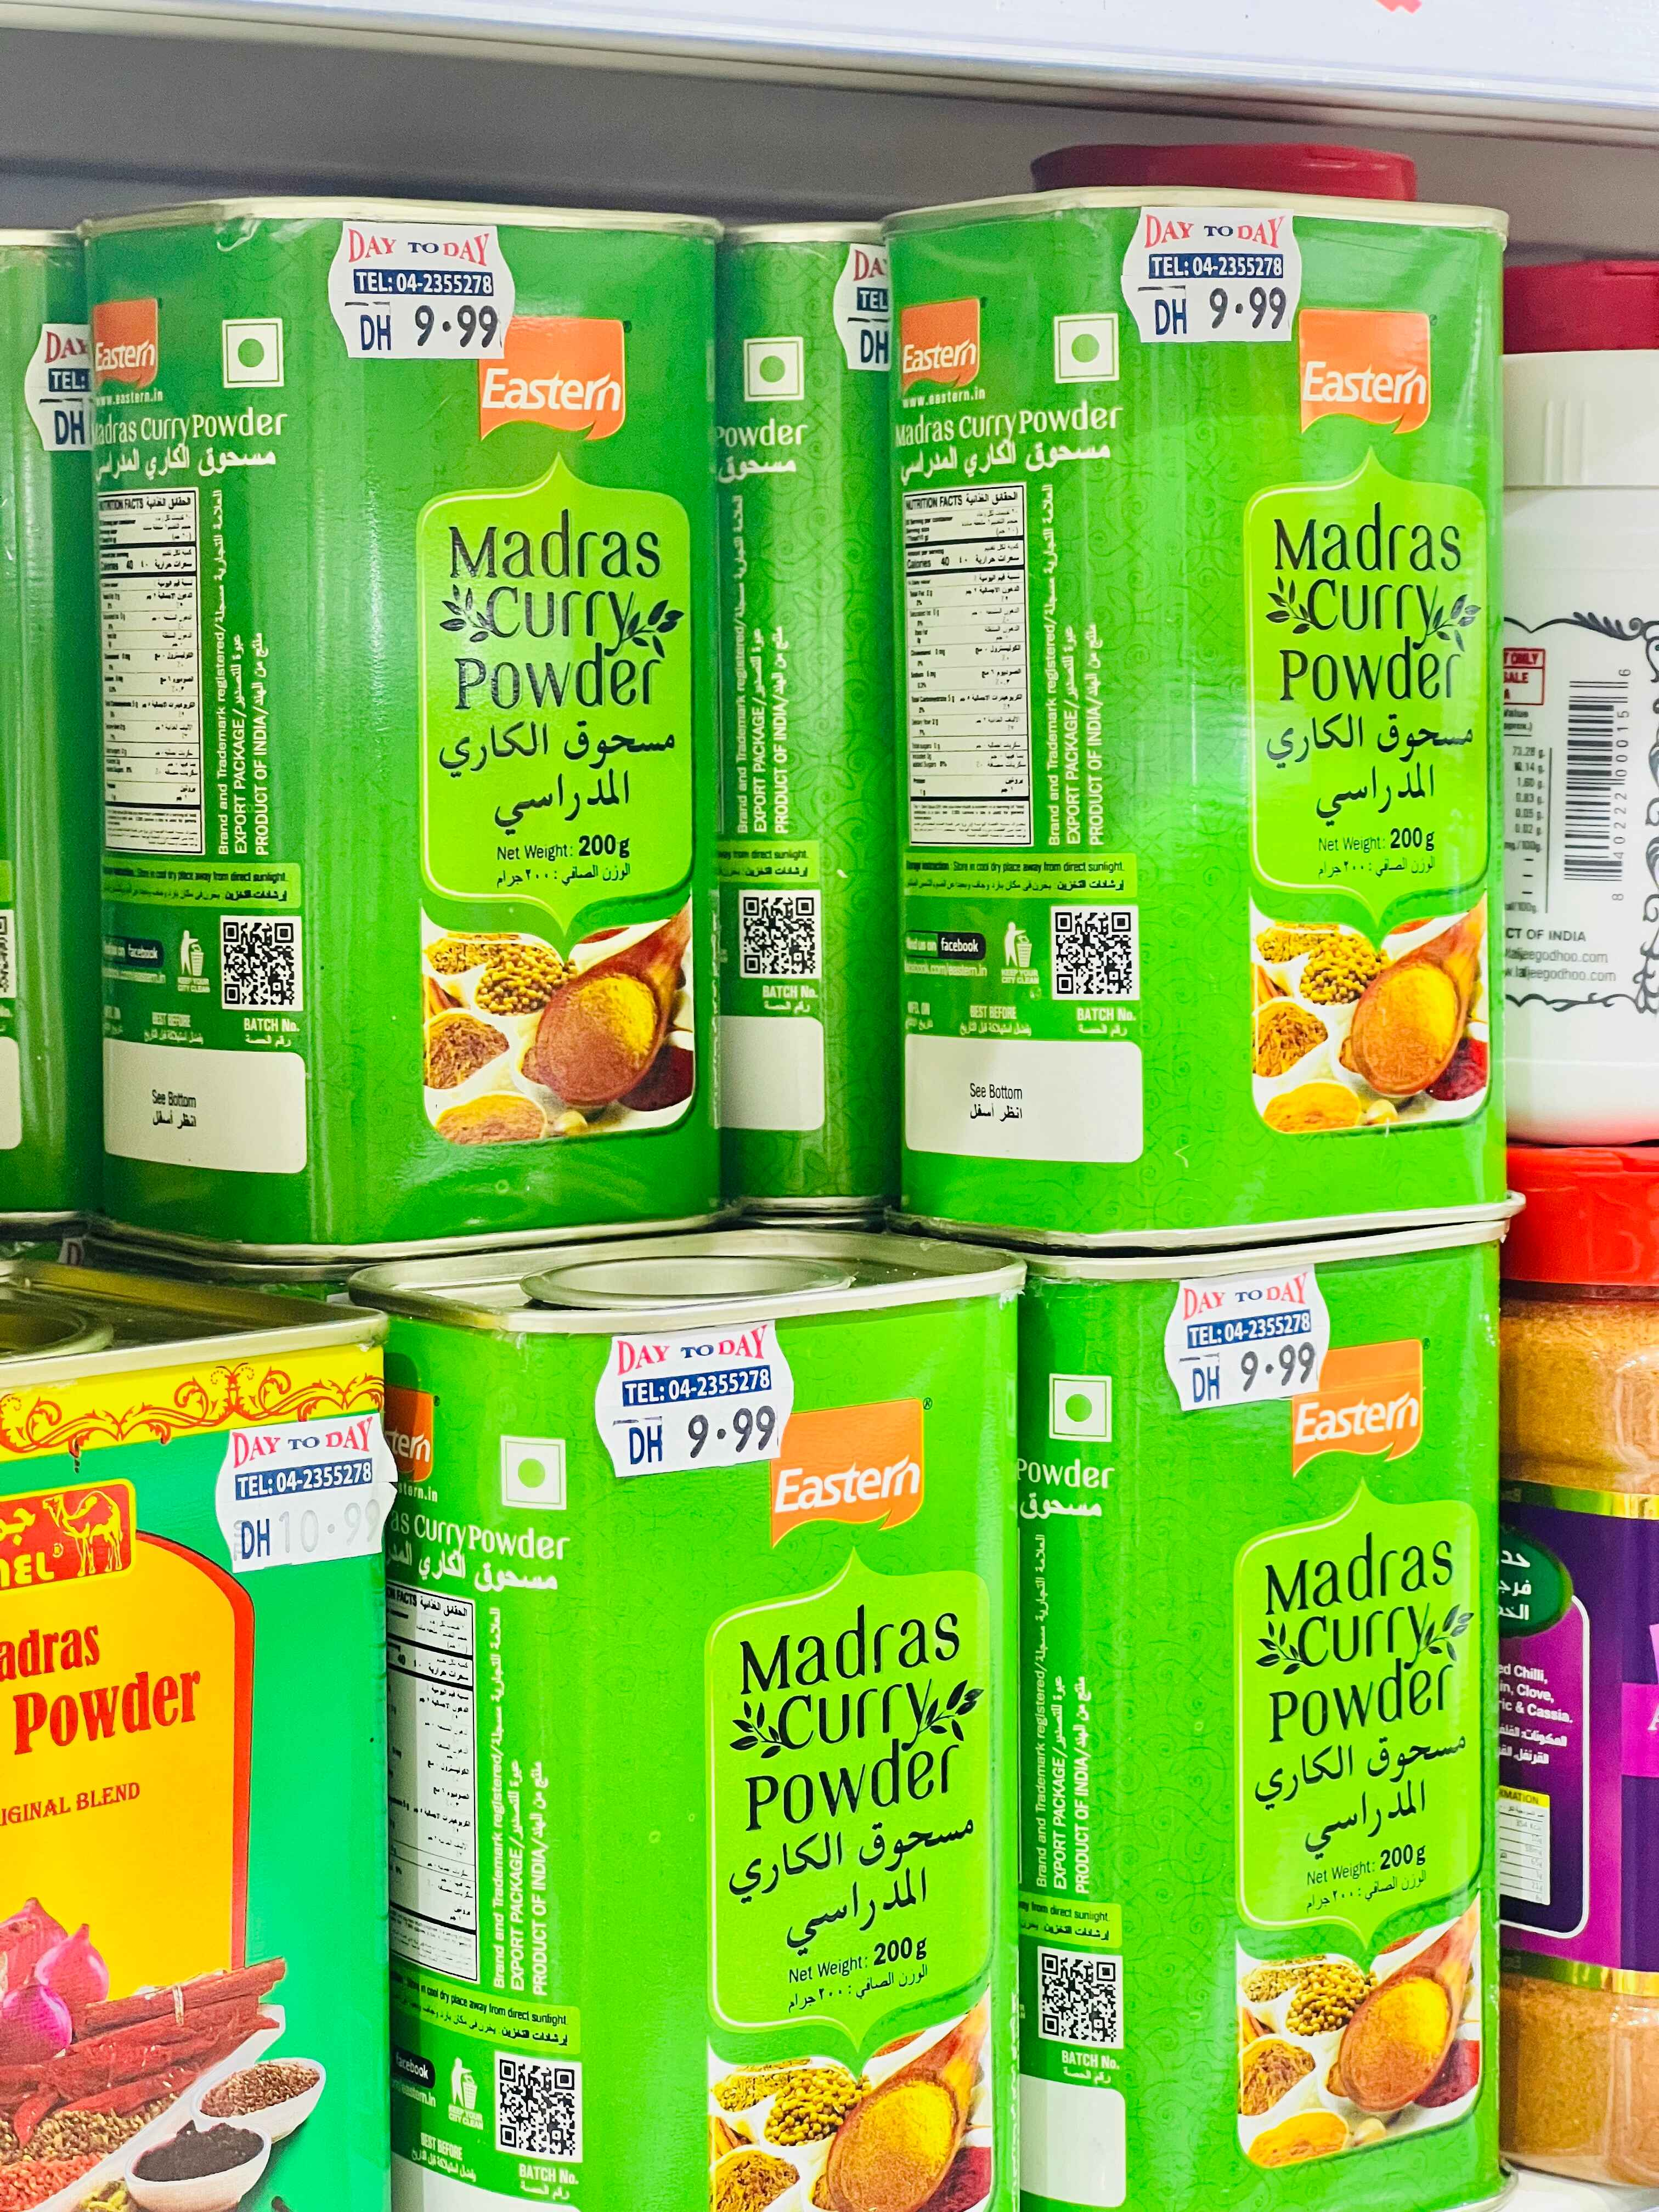PriceTagSmall: (587, 1325, 796, 1480), (214, 1414, 410, 1569), (328, 225, 526, 369), (1112, 204, 1309, 341), (1157, 1270, 1338, 1407), (23, 324, 115, 455), (828, 242, 910, 373)
